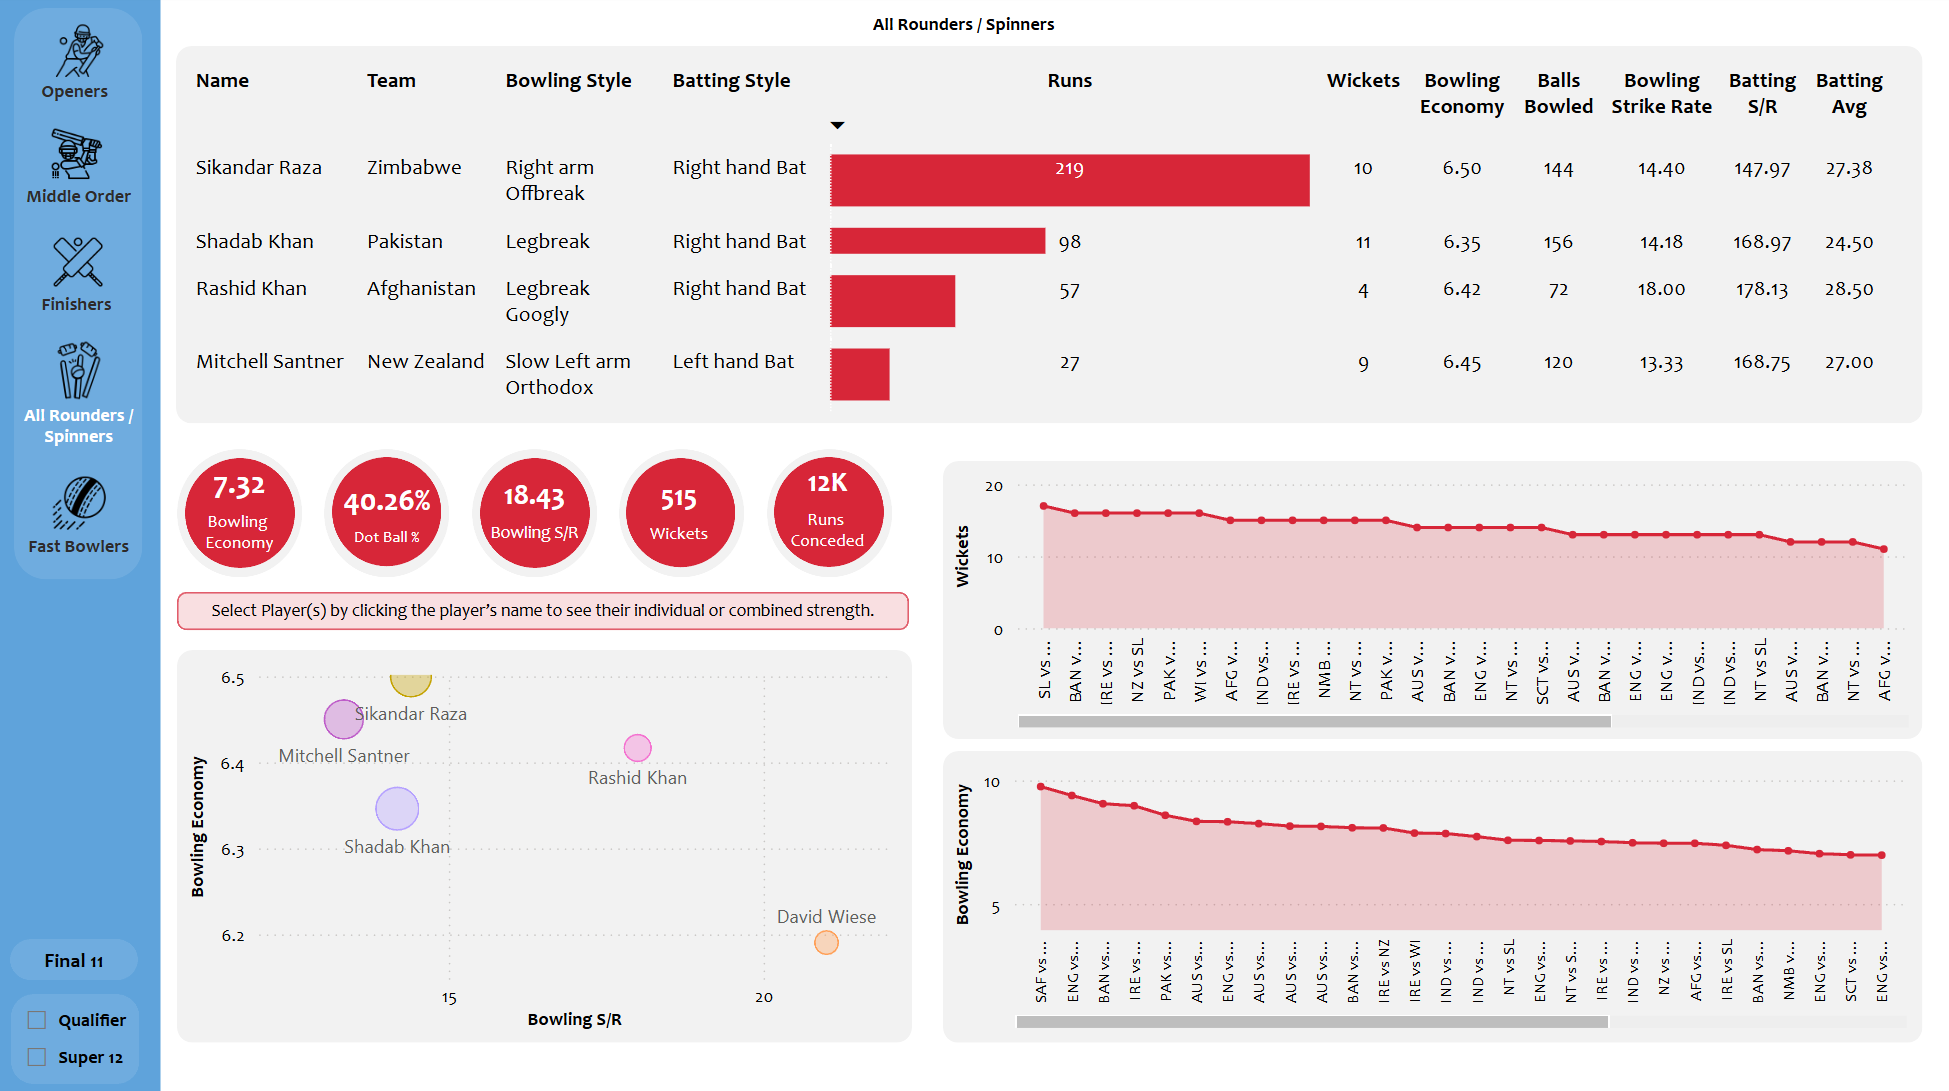

This screenshot's page, from the dashboard's own definition file:
{"tool":"powerbi","page":{"name":"New All Rounders / Spinners","canvas":[1280,720],"ordinal":3},"visuals":[{"type":"shape","title":"Blue side bar","box":[0,0,107,720],"z":0},{"type":"shape","box":[11,8,84,374],"z":0,"group":"g10"},{"type":"image","box":[30,10,48,51],"z":0,"group":"g3"},{"type":"image","box":[31,82,43,43],"z":0,"group":"g7"},{"type":"image","box":[32,153.5,42,42],"z":0,"group":"g6"},{"type":"image","box":[28,220.8,50,49],"z":0,"group":"g5"},{"type":"group","id":"g1","title":"Group 2","box":[118,296,468,84],"z":0,"group":"g9"},{"type":"group","id":"g2","title":"Group 1","box":[118,296,468,84],"z":0,"group":"g1"},{"type":"shape","box":[118,296,82,84],"z":0,"group":"g2"},{"type":"shape","box":[619,304,641,182],"z":0,"group":"g8"},{"type":"image","box":[25,309,58,46],"z":0,"group":"g4"},{"type":"group","id":"g3","title":"Opener","box":[23,10,56,63],"z":1000,"group":"g10"},{"type":"actionButton","box":[23,47,56,26],"z":1000,"group":"g3"},{"type":"actionButton","box":[2,120,103,22],"z":1000,"group":"g7"},{"type":"actionButton","box":[15,191,74,21],"z":1000,"group":"g6"},{"type":"actionButton","box":[2,261,103,38],"z":1000,"group":"g5"},{"type":"card","fields":{"Values":["KPIs (2).Bowling Economy"]},"box":[127.4,267.3,63.7,117.3],"z":1000,"group":"g9"},{"type":"shape","box":[214.5,296,82,84],"z":1000,"group":"g2"},{"type":"shape","box":[123,302,72,72],"z":1000,"group":"g1"},{"type":"actionButton","box":[2,349,103,22],"z":1000,"group":"g4"},{"type":"shape","box":[619,494,641,191],"z":1000,"group":"g8"},{"type":"shape","title":"Slicer BG","box":[9,653,84,59],"z":1000},{"type":"shape","title":"Canvas White BG","box":[107,0,1173,720],"z":2000},{"type":"shape","box":[311,296,82,84],"z":2000,"group":"g2"},{"type":"shape","box":[219.5,301.4,71.5,71.5],"z":2000,"group":"g1"},{"type":"card","fields":{"Values":["KPIs (2).Bowling Strike Rate"]},"box":[314,304,75,60],"z":2000,"group":"g9"},{"type":"group","id":"g4","title":"Fast Bowlers","box":[2,309,103,62],"z":2000,"group":"g10"},{"type":"group","id":"g5","title":"All Rounders","box":[2,220.8,103,78.2],"z":3000,"group":"g10"},{"type":"shape","box":[407.5,296,82,84],"z":3000,"group":"g2"},{"type":"shape","box":[316,302,72,72],"z":3000,"group":"g1"},{"type":"card","fields":{"Values":["KPIs (2).Dot Ball %"]},"box":[220.5,308,69,57],"z":3000,"group":"g9"},{"type":"shape","title":"Scatter BG","box":[118,428,481,257],"z":3000},{"type":"shape","title":"Table BG","box":[117,33,1143,247],"z":4000},{"type":"group","id":"g6","title":"Finishers","box":[15,153.5,74,58.5],"z":4000,"group":"g10"},{"type":"shape","box":[504,296,82,84],"z":4000,"group":"g2"},{"type":"card","fields":{"Values":["KPIs (2).Wickets"]},"box":[408.8,302.2,76.4,65.7],"z":4000,"group":"g9"},{"type":"shape","box":[411.8,302.2,71.5,71.5],"z":4000,"group":"g1"},{"type":"group","id":"g7","title":"Middle Order","box":[2,82,103,60],"z":5000,"group":"g10"},{"type":"card","fields":{"Values":["KPIs (2).Runs Conceded"]},"box":[506.7,272,74.4,107.9],"z":5000,"group":"g9"},{"type":"shape","box":[509,301,72,72],"z":5000,"group":"g1"},{"type":"group","id":"g8","title":"Graph 2 3 BKG","box":[619,304,641,381],"z":5000},{"type":"group","id":"g9","title":"Circular Bar Bwl Tble","box":[118,267.3,468,117.3],"z":6000},{"type":"group","id":"g10","title":"Sider Bard Icons","box":[2,8,103,374],"z":7000},{"type":"slicer","fields":{"Values":["dim_match_summary.Stage"]},"box":[7,653,88,59],"z":8000},{"type":"lineChart","fields":{"Category":["dim_match_summary.Match"],"Y":["KPIs (2).Bowling Economy"]},"box":[622,499,633,181],"z":9000},{"type":"textbox","box":[568,3.3,142.7,26.8],"z":10000},{"type":"shape","title":"Select player(s)","box":[118,390,479,25],"z":11000},{"type":"shape","title":"Player/combined performance","box":[118,390,479,25],"z":12000},{"type":"lineChart","fields":{"Y":["KPIs (2).Wickets"],"Category":["dim_match_summary.Match"]},"box":[621.9,305.6,635.3,178.3],"z":13000},{"type":"tableEx","fields":{"Values":["dim_players.Name","dim_players.Team","dim_players.bowlingStyle","dim_players.Batting Style","KPIs (2).Total Runs","KPIs (2).Wickets","KPIs (2).Bowling Economy","KPIs (2).Balls Bowled","KPIs (2).Bowling Strike Rate","KPIs (2).Strike rate","KPIs (2).Batting Avg"]},"box":[119.3,35,1137.9,243.9],"z":14000},{"type":"scatterChart","fields":{"Category":["dim_players.Name"],"Series":["dim_players.Name"],"X":["KPIs (2).Bowling Strike Rate"],"Y":["KPIs (2).Bowling Economy"],"Size":["KPIs (2).Wickets"]},"box":[121,431,475,250],"z":15000},{"type":"actionButton","box":[8.8,617.4,83.8,27],"z":16000}]}

Visuals, with their boxes in screenshot pixels (x1, y1, x2, y2), scaled from the page's 1280x720 canvas onto the 1949x1091 screenshot:
"Blue side bar" shape: box=[0, 0, 163, 1090]
shape: box=[17, 12, 145, 579]
image: box=[46, 15, 119, 92]
image: box=[47, 124, 113, 189]
image: box=[49, 233, 113, 296]
image: box=[43, 335, 119, 409]
"Group 2" group: box=[180, 449, 892, 576]
"Group 1" group: box=[180, 449, 892, 576]
shape: box=[180, 449, 305, 576]
shape: box=[943, 461, 1919, 736]
image: box=[38, 468, 126, 538]
"Opener" group: box=[35, 15, 120, 111]
actionButton: box=[35, 71, 120, 111]
actionButton: box=[3, 182, 160, 215]
actionButton: box=[23, 289, 136, 321]
actionButton: box=[3, 395, 160, 453]
card - KPIs (2).Bowling Economy: box=[194, 405, 291, 583]
shape: box=[327, 449, 451, 576]
shape: box=[187, 458, 297, 567]
actionButton: box=[3, 529, 160, 562]
shape: box=[943, 749, 1919, 1038]
"Slicer BG" shape: box=[14, 989, 142, 1079]
"Canvas White BG" shape: box=[163, 0, 1948, 1090]
shape: box=[474, 449, 598, 576]
shape: box=[334, 457, 443, 565]
card - KPIs (2).Bowling Strike Rate: box=[478, 461, 592, 552]
"Fast Bowlers" group: box=[3, 468, 160, 562]
"All Rounders" group: box=[3, 335, 160, 453]
shape: box=[620, 449, 745, 576]
shape: box=[481, 458, 591, 567]
card - KPIs (2).Dot Ball %: box=[336, 467, 441, 553]
"Scatter BG" shape: box=[180, 649, 912, 1038]
"Table BG" shape: box=[178, 50, 1919, 424]
"Finishers" group: box=[23, 233, 136, 321]
shape: box=[767, 449, 892, 576]
card - KPIs (2).Wickets: box=[622, 458, 739, 557]
shape: box=[627, 458, 736, 566]
"Middle Order" group: box=[3, 124, 160, 215]
card - KPIs (2).Runs Conceded: box=[772, 412, 885, 576]
shape: box=[775, 456, 885, 565]
"Graph 2 3 BKG" group: box=[943, 461, 1919, 1038]
"Circular Bar Bwl Tble" group: box=[180, 405, 892, 583]
"Sider Bard Icons" group: box=[3, 12, 160, 579]
slicer - dim_match_summary.Stage: box=[11, 989, 145, 1079]
lineChart - dim_match_summary.Match x KPIs (2).Bowling Economy: box=[947, 756, 1911, 1030]
textbox: box=[865, 5, 1082, 46]
"Select player(s)" shape: box=[180, 591, 909, 629]
"Player/combined performance" shape: box=[180, 591, 909, 629]
lineChart - KPIs (2).Wickets x dim_match_summary.Match: box=[947, 463, 1914, 733]
tableEx - dim_players.Name x dim_players.Team: box=[182, 53, 1914, 423]
scatterChart - dim_players.Name x dim_players.Name: box=[184, 653, 908, 1032]
actionButton: box=[13, 936, 141, 976]
